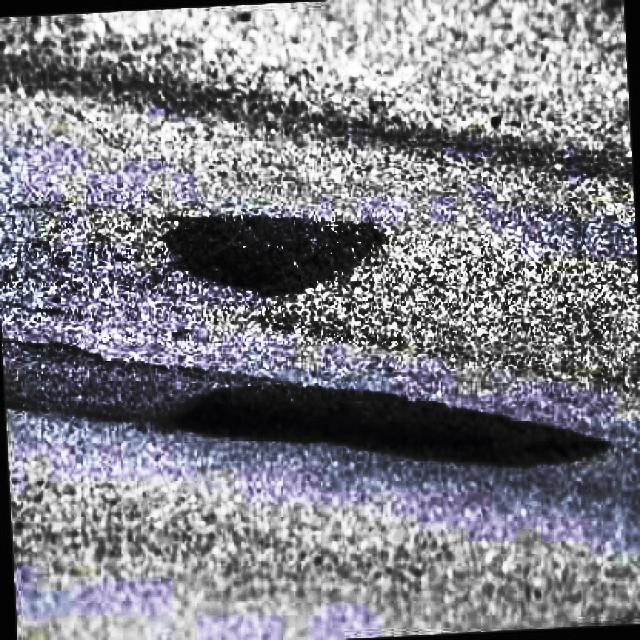pothole: (152, 372, 614, 471), (166, 202, 368, 306)
